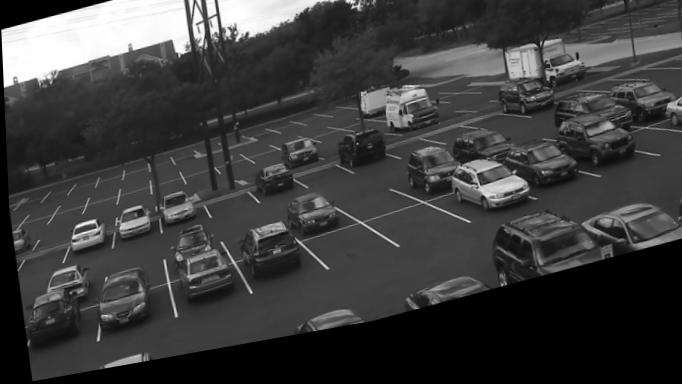empty: (373, 213, 468, 258), (300, 237, 382, 276), (628, 146, 682, 181), (202, 196, 260, 228), (349, 195, 402, 224), (108, 248, 157, 276), (222, 221, 266, 250), (421, 137, 476, 160), (15, 247, 67, 271), (296, 175, 348, 198), (467, 128, 525, 146), (387, 147, 432, 168), (515, 141, 558, 158), (36, 225, 72, 245), (115, 191, 150, 211), (178, 176, 220, 192), (214, 166, 256, 182), (49, 207, 84, 226), (83, 198, 118, 217), (13, 191, 49, 209), (205, 157, 242, 174), (312, 140, 351, 155), (150, 184, 184, 201), (236, 148, 272, 164), (580, 100, 627, 112), (428, 108, 475, 120), (149, 173, 182, 190), (86, 188, 118, 205), (16, 214, 52, 229), (118, 180, 149, 197), (145, 160, 176, 177), (168, 155, 198, 171), (298, 132, 332, 146), (178, 167, 211, 181), (317, 151, 344, 168), (645, 81, 682, 93), (25, 204, 59, 217), (265, 142, 299, 155), (123, 165, 147, 183), (246, 158, 279, 171), (326, 126, 361, 138), (240, 136, 275, 148), (343, 132, 382, 142), (58, 197, 88, 210), (81, 210, 110, 223), (47, 186, 70, 202), (239, 174, 262, 190), (617, 94, 667, 101), (98, 173, 120, 188), (71, 181, 94, 195), (271, 130, 303, 140), (297, 124, 326, 134), (320, 118, 352, 127)
occupied: (482, 228, 614, 303), (576, 225, 682, 276), (441, 173, 529, 234), (501, 156, 582, 209), (233, 230, 306, 288), (272, 308, 380, 347), (386, 286, 488, 327), (554, 135, 631, 189), (173, 250, 235, 308), (100, 271, 150, 334), (29, 290, 80, 351), (285, 203, 342, 247), (498, 93, 555, 137), (384, 100, 438, 145), (611, 105, 671, 145), (406, 164, 457, 209), (443, 147, 510, 181), (336, 141, 386, 186), (555, 115, 624, 141), (91, 350, 161, 373), (253, 172, 292, 206), (44, 267, 87, 295), (68, 221, 102, 256), (280, 148, 317, 180), (159, 199, 194, 230), (117, 211, 149, 243), (174, 233, 207, 262), (664, 120, 682, 150)
